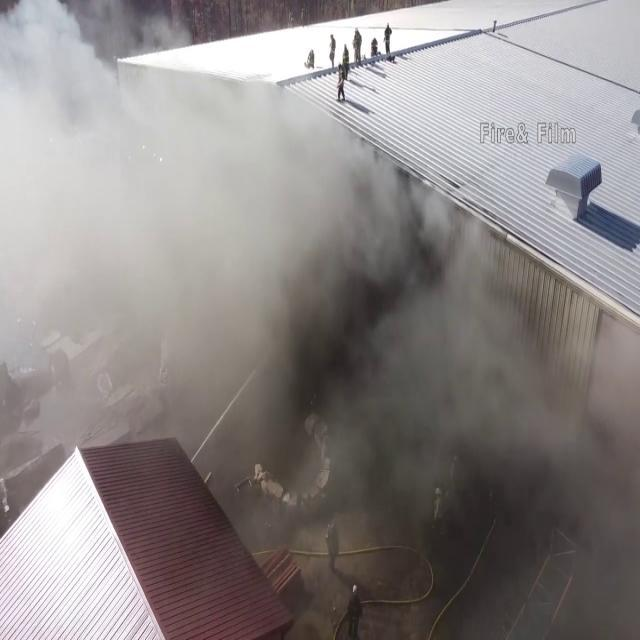Smoke: (1, 52, 594, 478)
